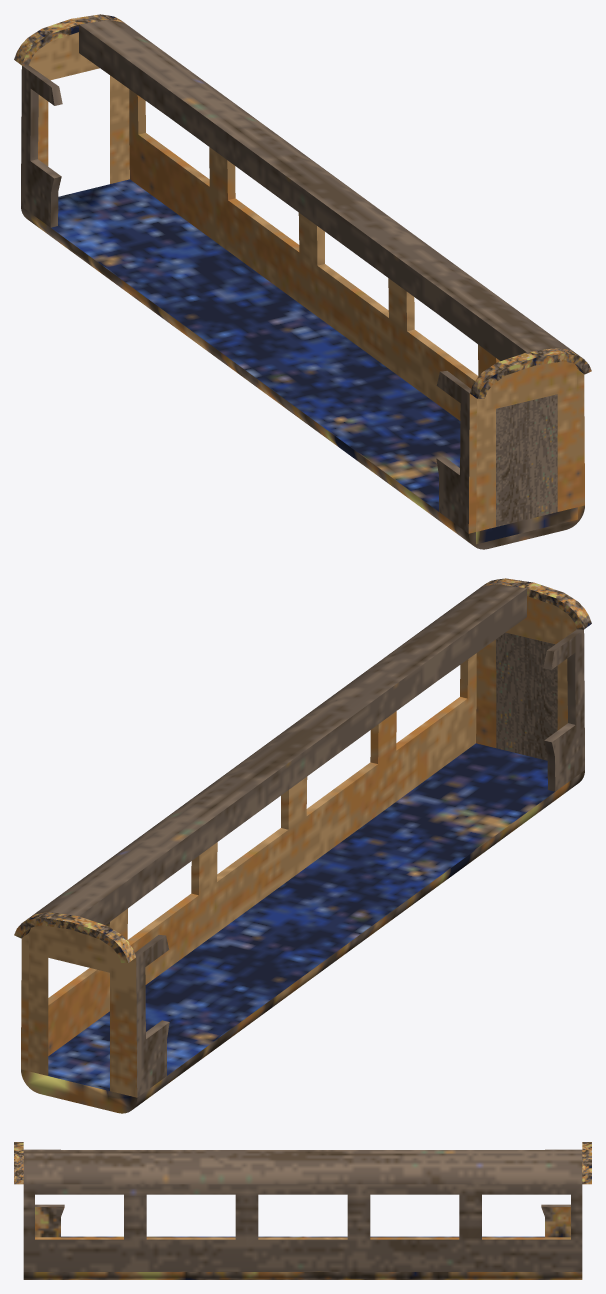
File: carriageConnectorFarRightDoor.fbx
The picture shows the model from 3 angles, top to bottom: view 1: azimuth 30°, elevation 25°; view 2: azimuth 150°, elevation 25°; view 3: azimuth 270°, elevation 25°; orthographic projection. The views are drawn at different scales.
Visible parts, largest first — view 1: Cube.002; view 2: Cube.002; view 3: Cube.002.
Boxes of the visible parts, x1=… form: Cube.002: x1=14, y1=14, x2=591, y2=549; Cube.002: x1=14, y1=578, x2=591, y2=1113; Cube.002: x1=14, y1=1142, x2=591, y2=1279.
Bounding box in the file's own units: 600 × 922 × 4140.
Materials: 1 (1 with a texture image).
